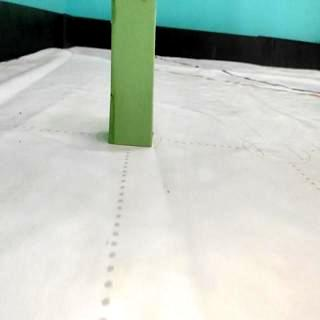greenbox: (108, 0, 158, 149)
